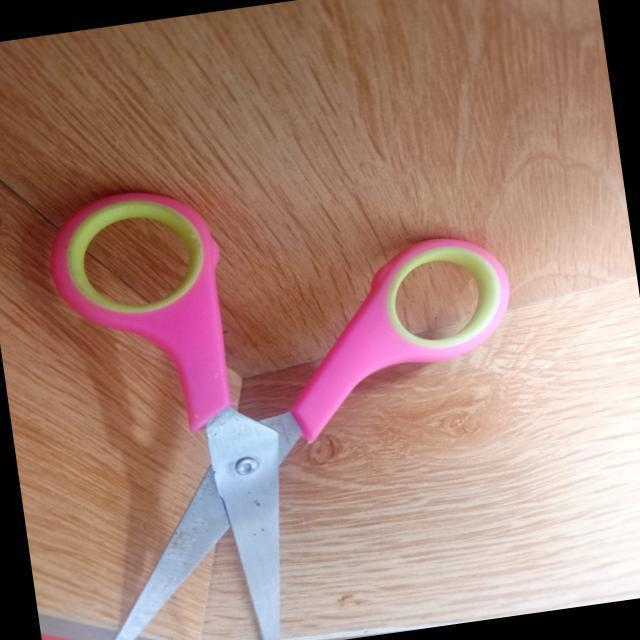scissors: (0, 75, 573, 640)
